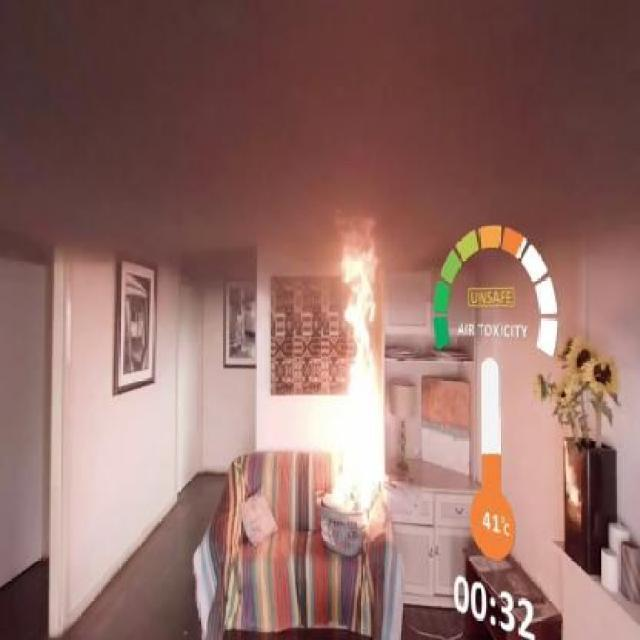fire: (306, 228, 396, 542)
smoke: (70, 26, 572, 194)
